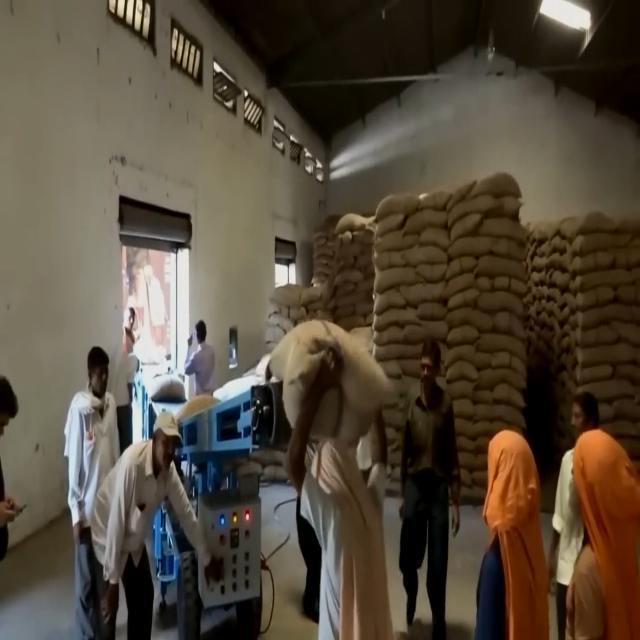gunny_bag: (267, 317, 400, 447)
